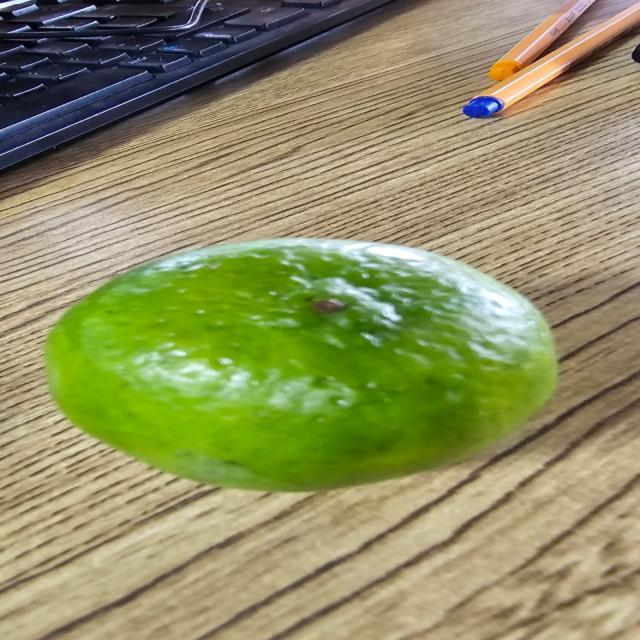Lemon: (29, 231, 578, 497)
